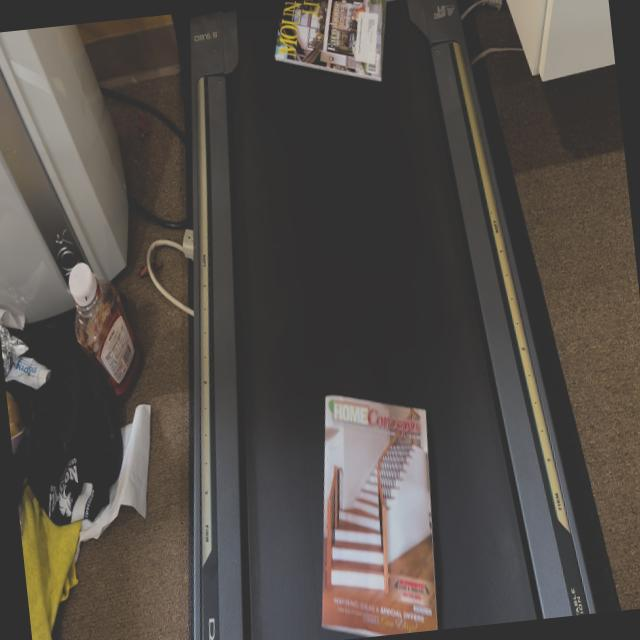Recycle: (295, 382, 450, 640), (268, 0, 396, 89)
